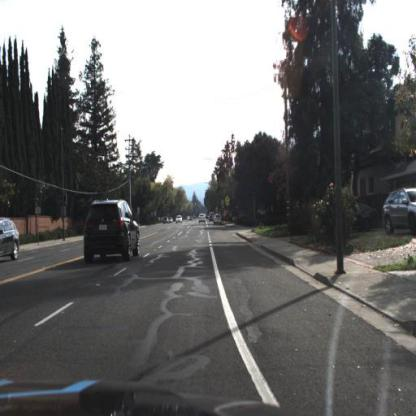car: (79, 195, 142, 267), (384, 187, 416, 238), (1, 217, 21, 264), (197, 211, 208, 227), (211, 213, 222, 229)
